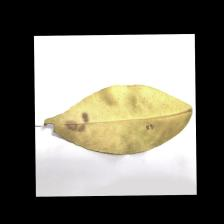black spot: (40, 107, 104, 141)
